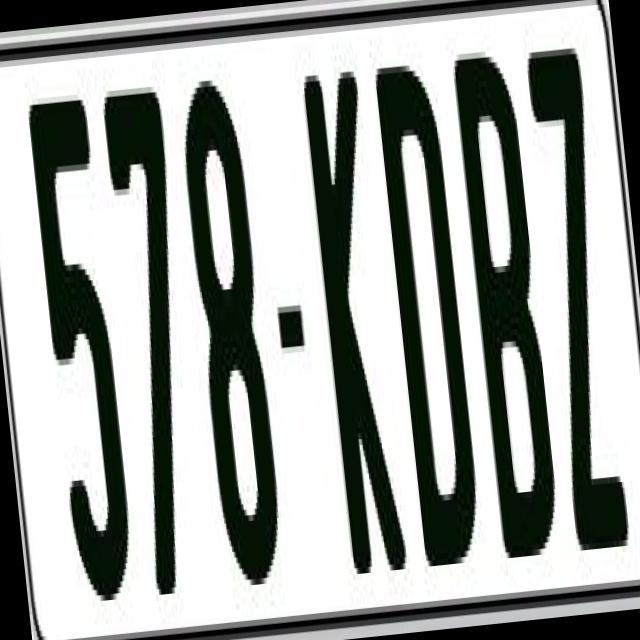5: (24, 87, 138, 591)
7: (97, 74, 209, 601)
8: (170, 61, 284, 594)
B: (450, 42, 568, 570)
D: (374, 61, 492, 584)
K: (296, 53, 410, 563)
Z: (524, 47, 634, 568)
